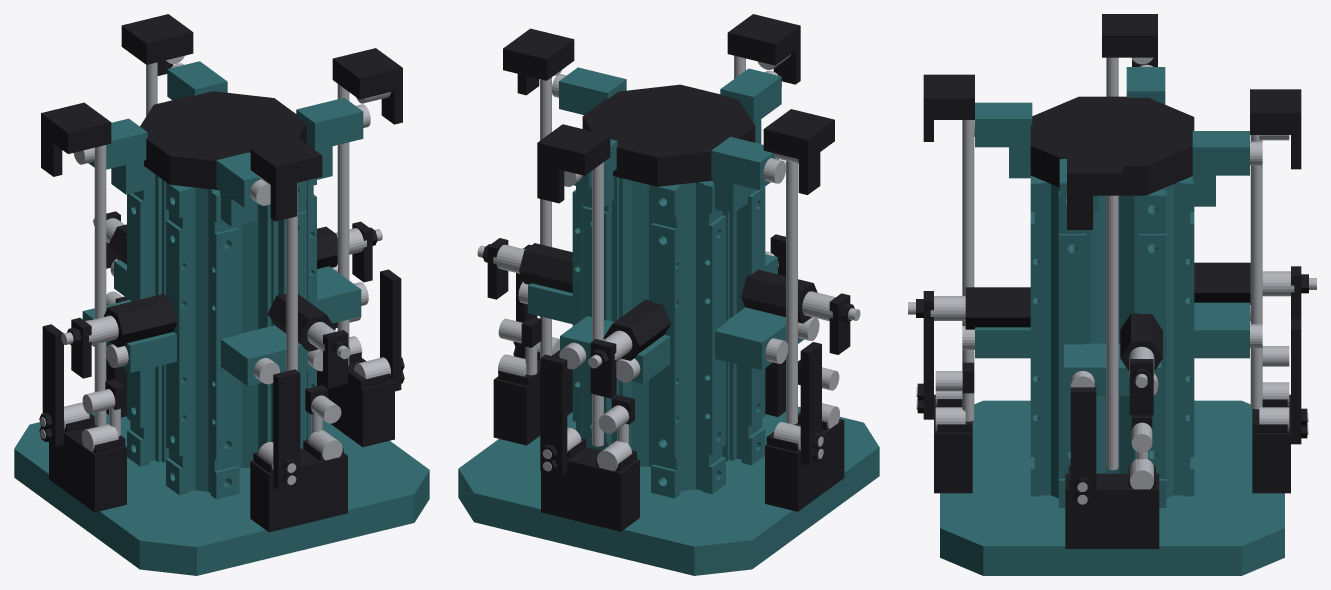
Rendered from fixture_part00_phase20.glb.
3 renders of one model, left to right at view 1: azimuth 30°, elevation 25°; view 2: azimuth 150°, elevation 25°; view 3: azimuth 270°, elevation 25°, orthographic. The views are drawn at different scales.
Visible parts, largest first — view 1: fixture__fx_paint, fixture__fx_oxide, fixture__fx_steel, gripper_jaw_1__fx_oxide, gripper_jaw_7__fx_oxide, gripper_jaw_3__fx_oxide, gripper_jaw_5__fx_oxide, gripper_jaw_8__fx_steel, gripper_jaw_2__fx_steel; view 2: fixture__fx_paint, fixture__fx_oxide, fixture__fx_steel, gripper_jaw_5__fx_oxide, gripper_jaw_7__fx_oxide, gripper_jaw_1__fx_oxide, gripper_jaw_3__fx_oxide, gripper_jaw_6__fx_steel, gripper_jaw_4__fx_oxide; view 3: fixture__fx_paint, fixture__fx_oxide, fixture__fx_steel, gripper_jaw_3__fx_oxide, gripper_jaw_5__fx_oxide, gripper_jaw_1__fx_oxide, gripper_jaw_7__fx_oxide, gripper_jaw_6__fx_steel, gripper_jaw_2__fx_steel, gripper_jaw_4__fx_steel.
Boxes of the visible parts, <box> form: fixture__fx_paint: <box>14,61,429,575</box>; fixture__fx_oxide: <box>39,91,404,532</box>; fixture__fx_steel: <box>40,62,390,484</box>; gripper_jaw_1__fx_oxide: <box>250,137,322,221</box>; gripper_jaw_7__fx_oxide: <box>41,102,111,176</box>; gripper_jaw_3__fx_oxide: <box>332,48,402,124</box>; gripper_jaw_5__fx_oxide: <box>121,14,193,75</box>; gripper_jaw_8__fx_steel: <box>82,389,115,413</box>; gripper_jaw_2__fx_steel: <box>311,395,341,423</box>; fixture__fx_paint: <box>458,67,879,575</box>; fixture__fx_oxide: <box>482,84,854,531</box>; fixture__fx_steel: <box>477,55,860,471</box>; gripper_jaw_5__fx_oxide: <box>537,124,610,203</box>; gripper_jaw_7__fx_oxide: <box>763,109,834,194</box>; gripper_jaw_1__fx_oxide: <box>727,14,800,84</box>; gripper_jaw_3__fx_oxide: <box>503,28,574,95</box>; gripper_jaw_6__fx_steel: <box>598,405,629,433</box>; gripper_jaw_4__fx_oxide: <box>521,316,541,347</box>; fixture__fx_paint: <box>940,67,1284,575</box>; fixture__fx_oxide: <box>916,96,1308,548</box>; fixture__fx_steel: <box>908,57,1316,504</box>; gripper_jaw_3__fx_oxide: <box>1067,152,1122,229</box>; gripper_jaw_5__fx_oxide: <box>1250,89,1301,169</box>; gripper_jaw_1__fx_oxide: <box>923,74,974,141</box>; gripper_jaw_7__fx_oxide: <box>1102,14,1157,66</box>; gripper_jaw_6__fx_steel: <box>1262,346,1289,366</box>; gripper_jaw_2__fx_steel: <box>935,371,962,391</box>; gripper_jaw_4__fx_steel: <box>1131,422,1152,452</box>.
Size of the model in its own units: 0.4743 by 0.5241 by 0.4743.
